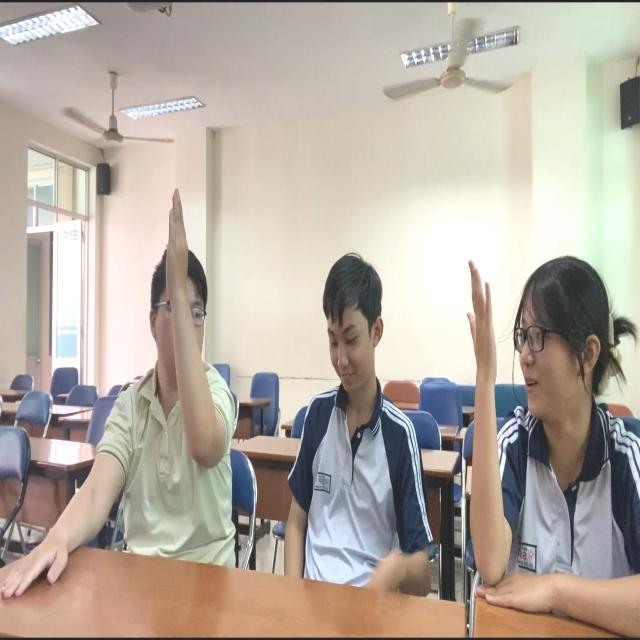raise_hand: (443, 180, 640, 637), (122, 191, 247, 591)
